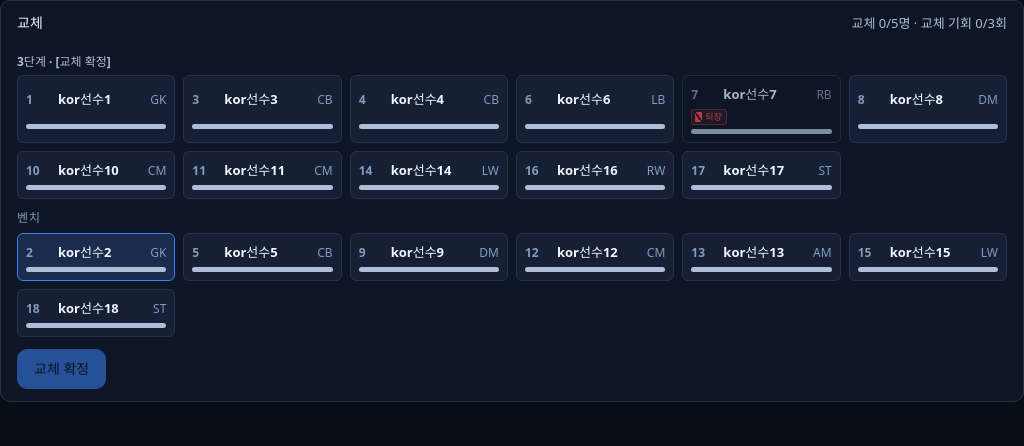
Scenario: 교체 패널 — 차단 사유 고지 › 제어 모드에서 퇴장 선수를 강제로 OUT에 넣어도 [교체 확정]이 거부한다
This screenshot has width=1024, height=446.
Click the button "교체 확정": (62, 369) [17,349,106,389]
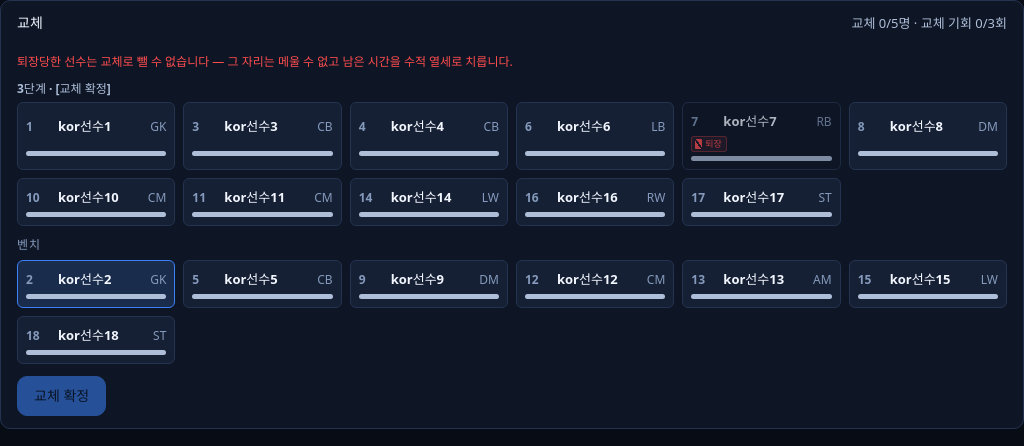
Now the message with class "cs-error" shows "퇴장당한 선수는 교체로 뺄 수 없습니다", box [17,53,513,70]
